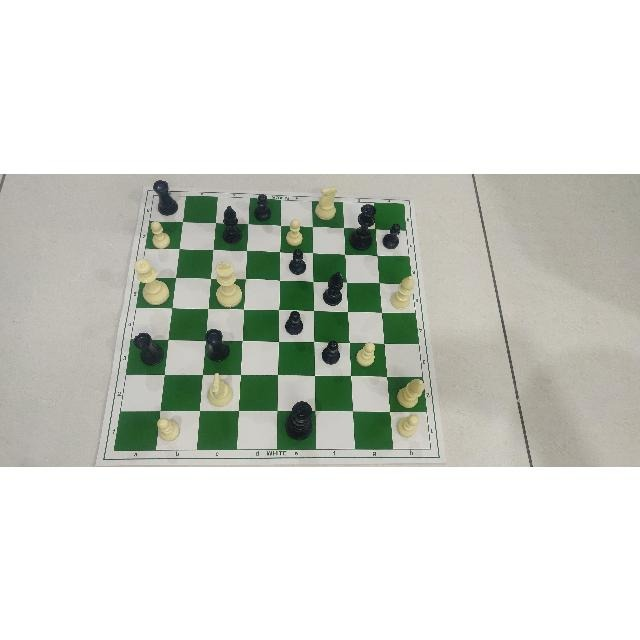black-bishop: (322, 271, 347, 307), (221, 205, 243, 243)
black-king: (285, 399, 317, 439), (214, 259, 240, 304)
black-pawn: (382, 221, 407, 251), (320, 338, 344, 366), (287, 247, 311, 274), (284, 310, 306, 336), (253, 194, 272, 222)
black-queen: (351, 203, 381, 247)
black-rook: (131, 331, 166, 365), (149, 178, 180, 216), (203, 327, 233, 363)
white-bishop: (391, 270, 419, 308), (398, 376, 425, 406)
white-knight: (203, 370, 234, 408), (316, 185, 339, 221)
white-pawn: (154, 415, 182, 445), (147, 220, 173, 250), (396, 414, 422, 440), (357, 340, 381, 368), (285, 217, 307, 244)
white-queen: (128, 257, 169, 303)
